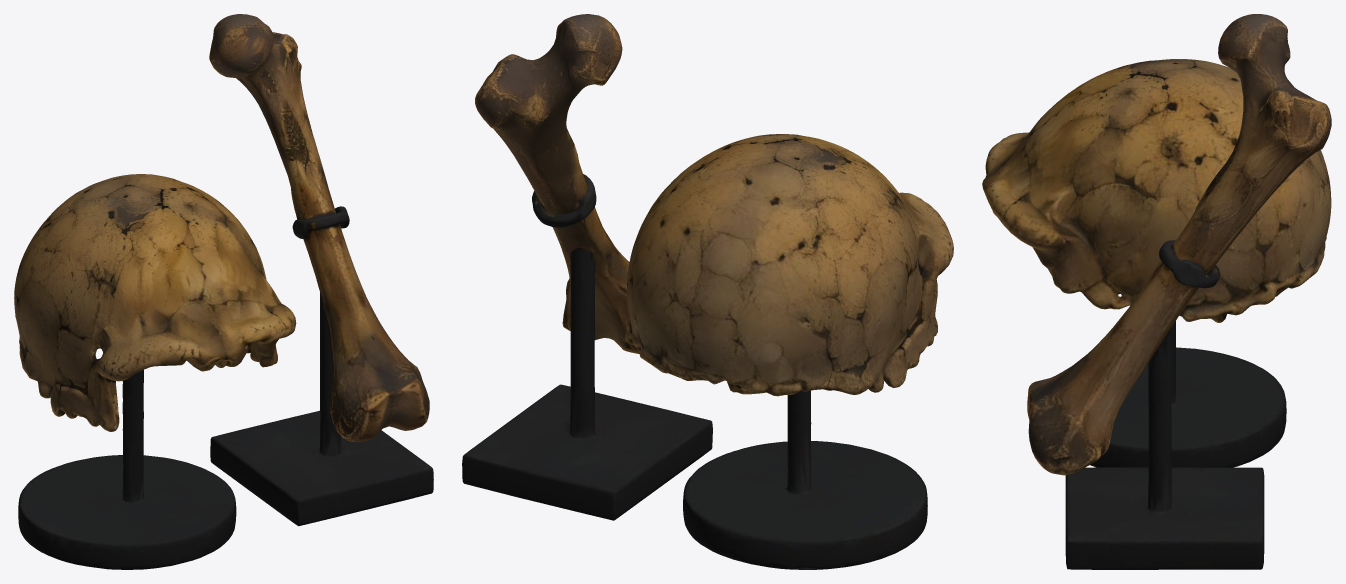
The model's file is homo-erectus-trinil.glb.
The picture shows the model from 3 angles, left to right: view 1: azimuth 30°, elevation 25°; view 2: azimuth 150°, elevation 25°; view 3: azimuth 270°, elevation 25°; orthographic projection. The views are drawn at different scales.
Visible parts, largest first — view 1: tripo_node_04f340c6-a58d-4362-8b90-95e00b7f91d8; view 2: tripo_node_04f340c6-a58d-4362-8b90-95e00b7f91d8; view 3: tripo_node_04f340c6-a58d-4362-8b90-95e00b7f91d8.
Part boxes in pixels (left/top/right/bottom): tripo_node_04f340c6-a58d-4362-8b90-95e00b7f91d8: left=14, top=14, right=433, bottom=569; tripo_node_04f340c6-a58d-4362-8b90-95e00b7f91d8: left=462, top=14, right=953, bottom=569; tripo_node_04f340c6-a58d-4362-8b90-95e00b7f91d8: left=982, top=14, right=1331, bottom=569.
Bounding box in the file's own units: 0.8491 × 0.9999 × 0.6393.
1 material, 1 textured.
